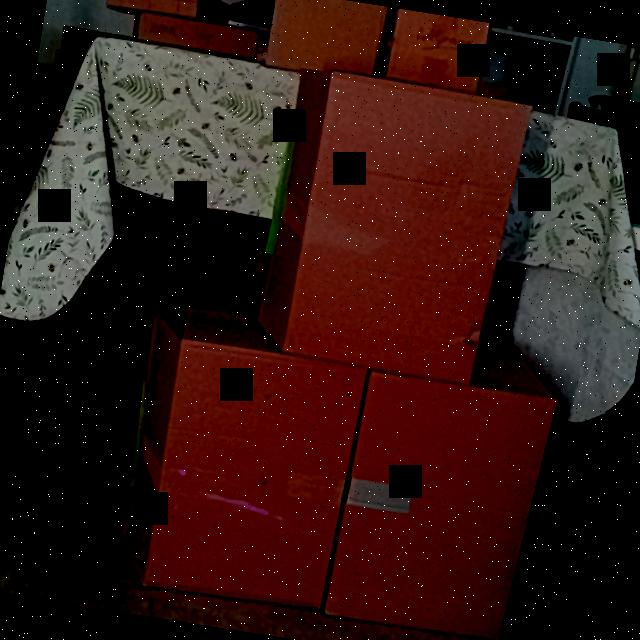box: (284, 72, 528, 388), (142, 340, 364, 614), (323, 369, 547, 640), (266, 0, 388, 81), (382, 8, 492, 94), (134, 13, 262, 61), (101, 0, 203, 18)
